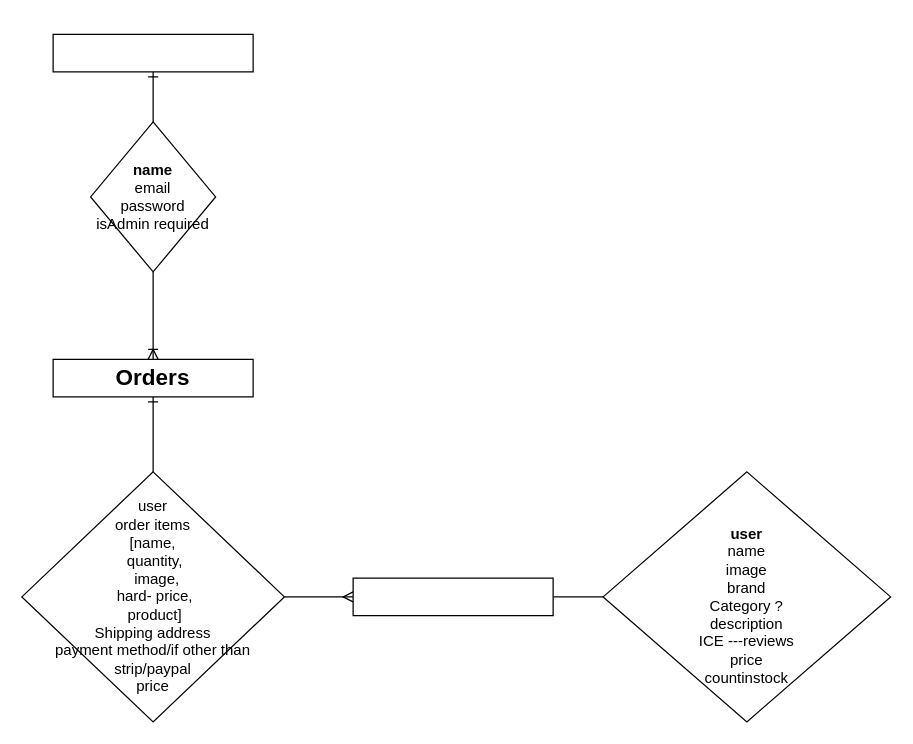
Image size: 913x744. Some labels were removed from this diagram. The shapes that lost their labels are listed below. From the top down, each one's centre as x and y in pixels, then its label:
At point 152,52: "User".
At point 452,596: "products".
